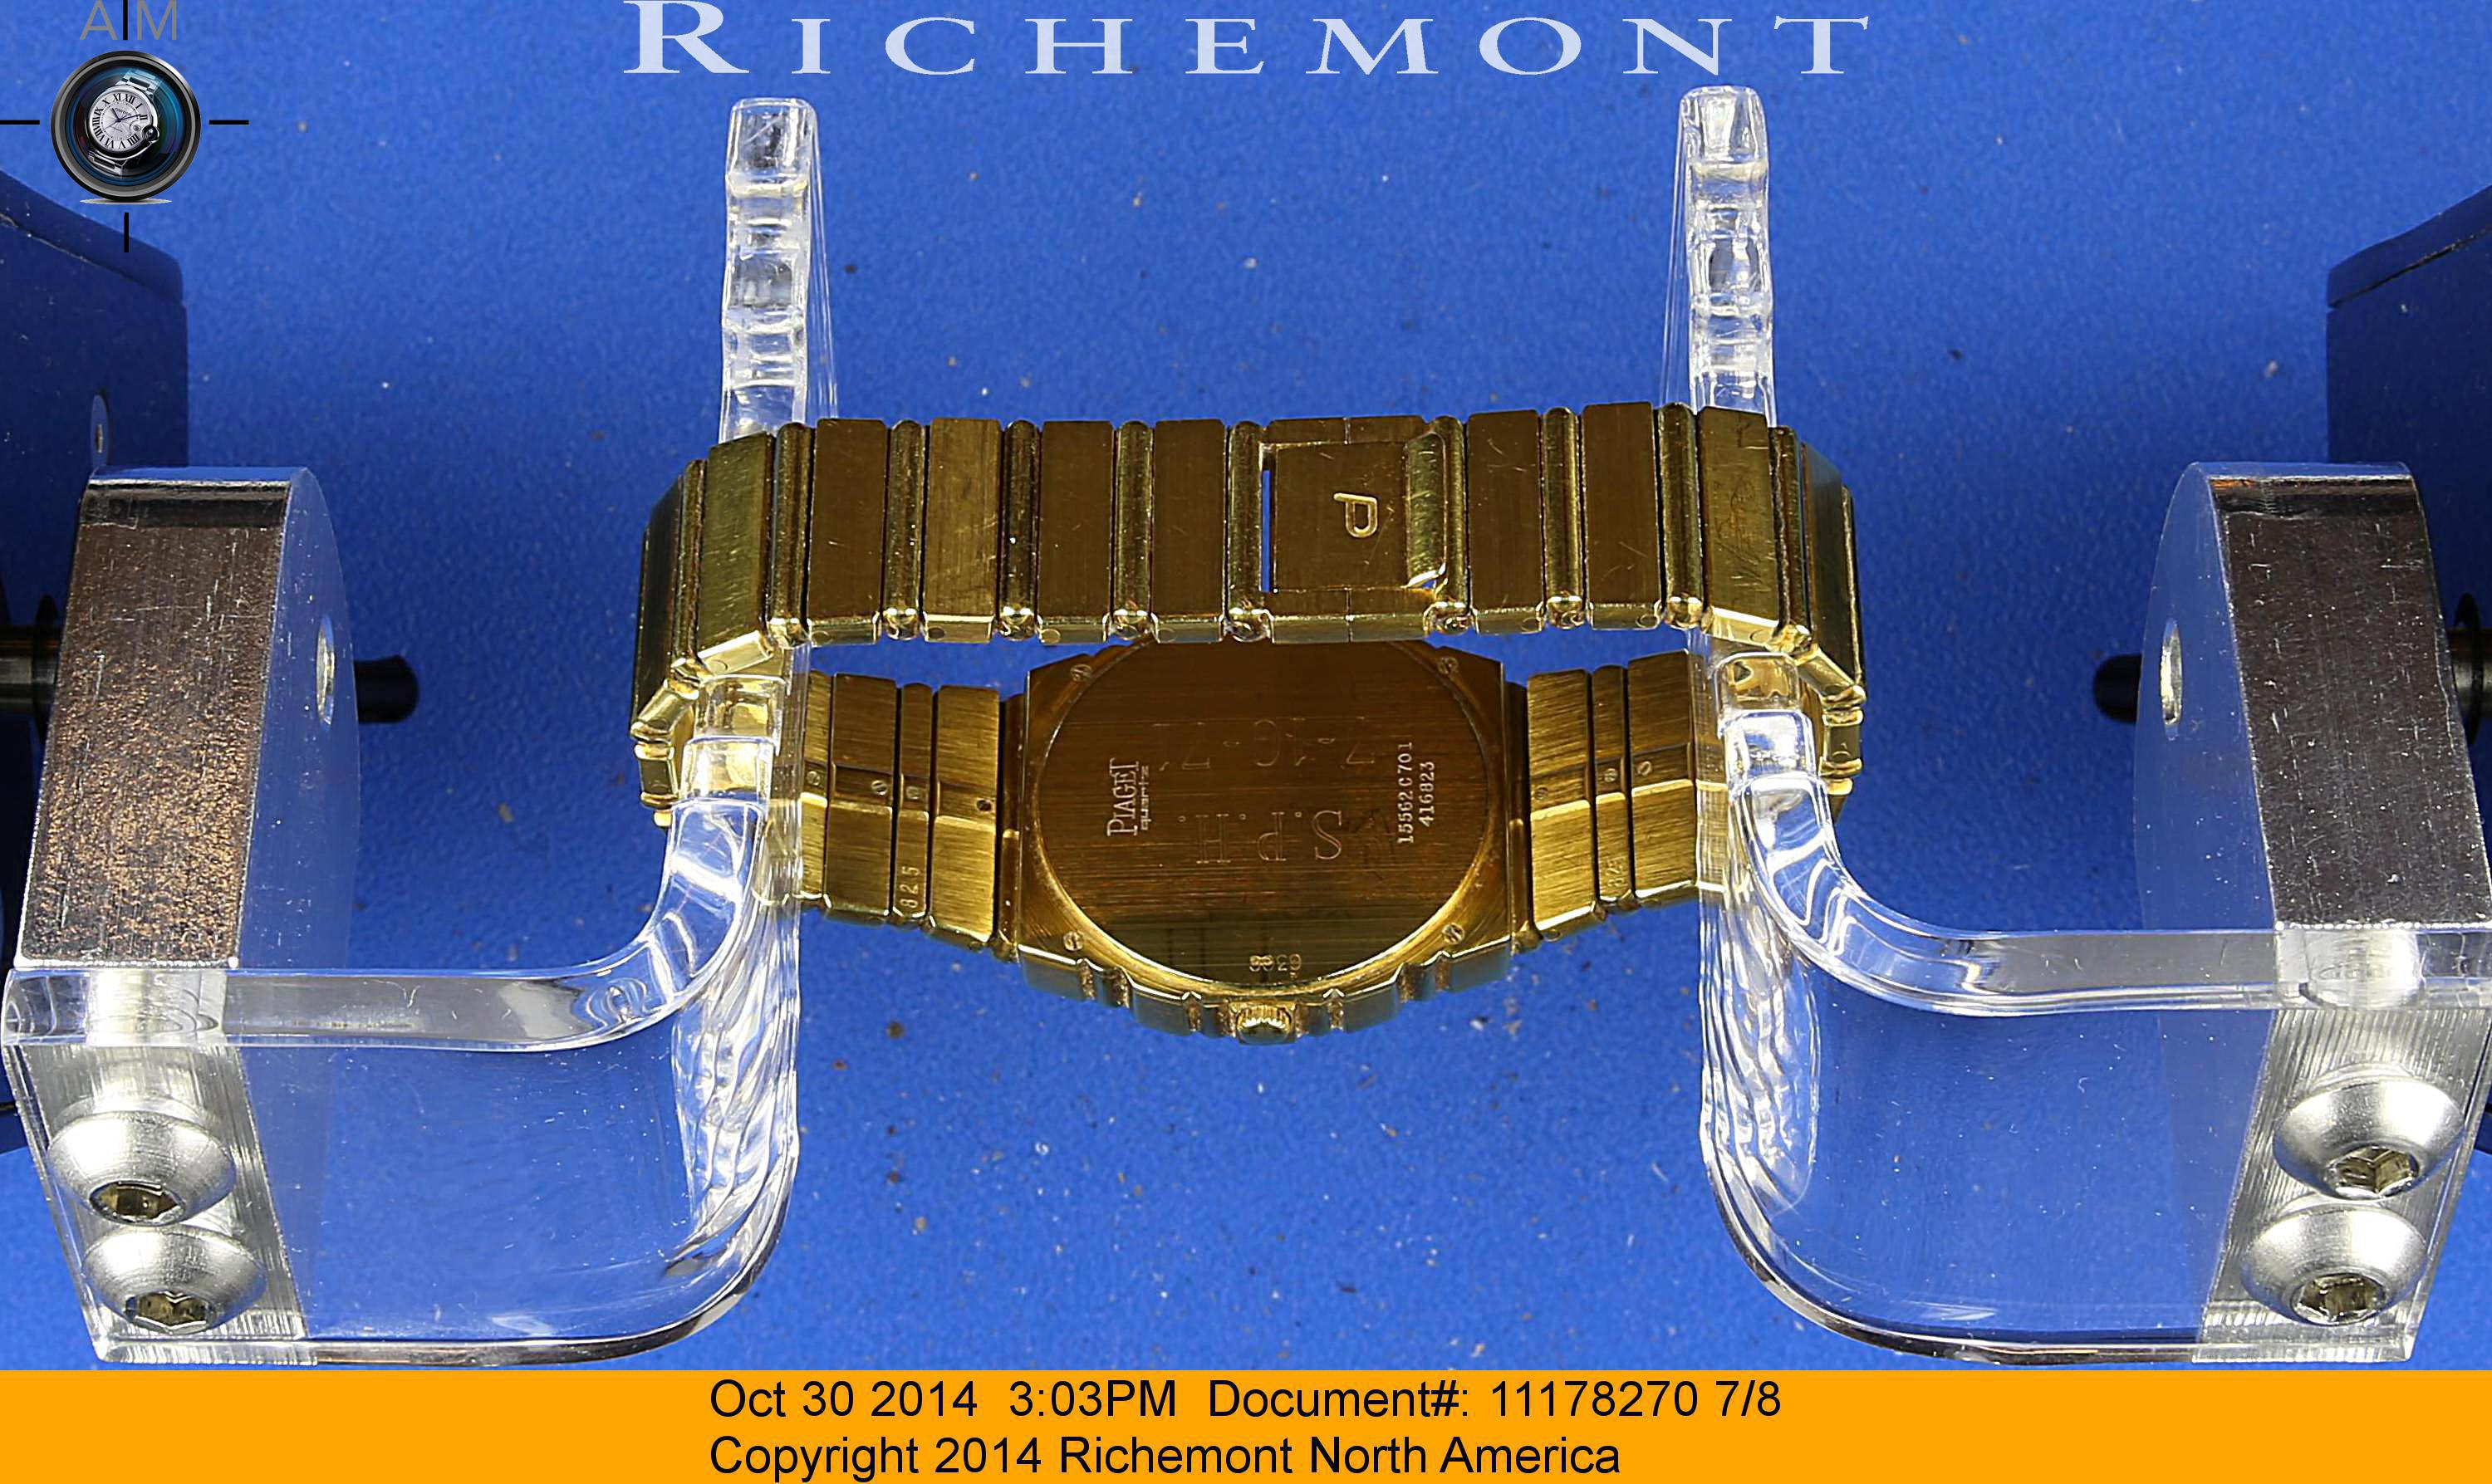Watch BackCase: (1010, 650, 1521, 1055)
